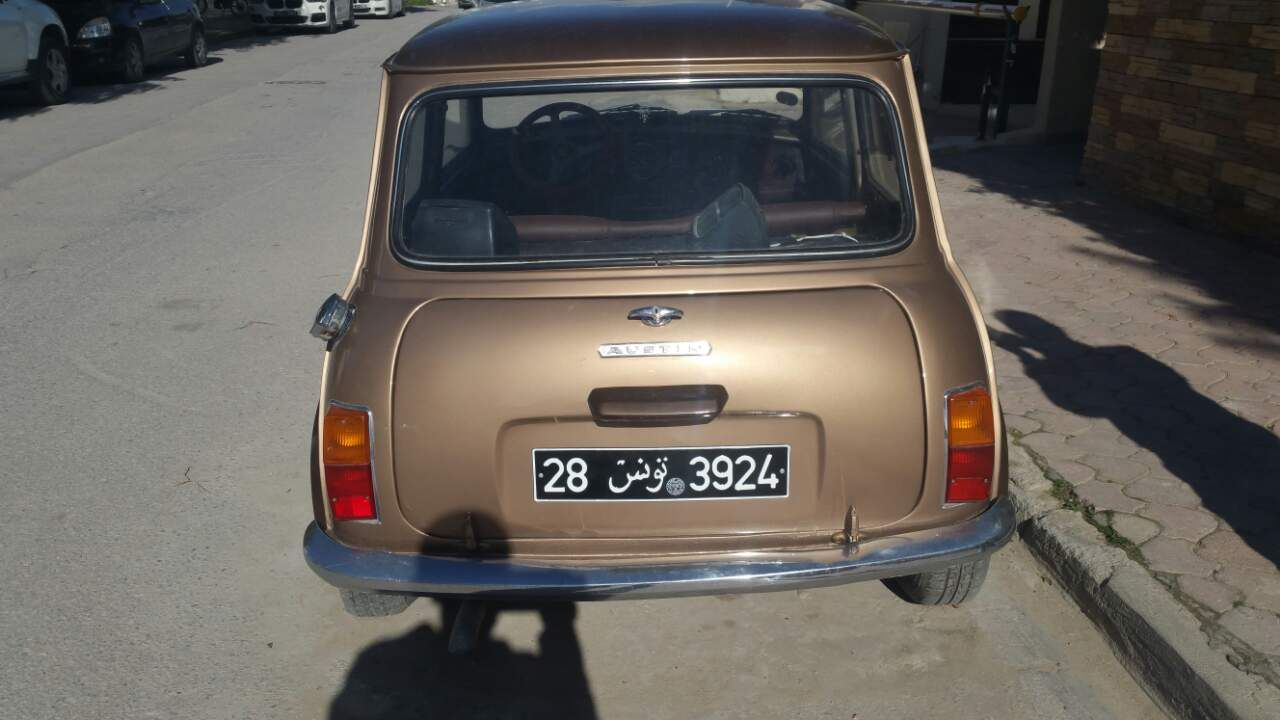LP: (533, 444, 792, 505)
